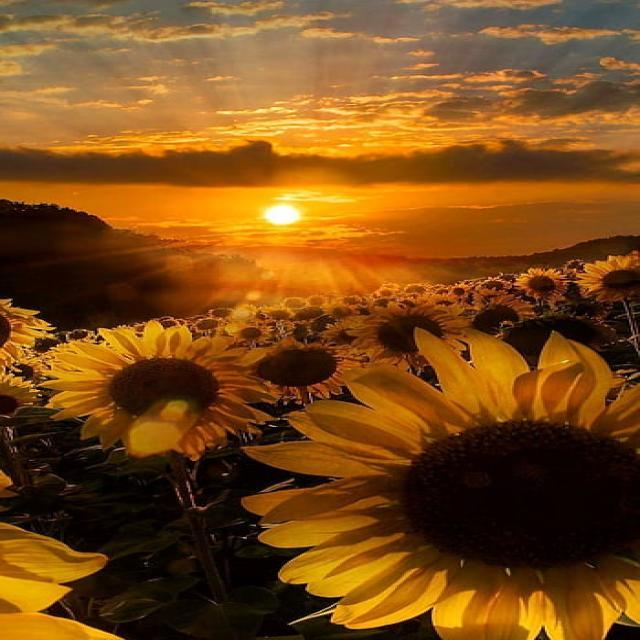sunflower: (240, 327, 638, 638), (38, 319, 276, 460), (0, 520, 124, 639), (346, 298, 472, 366), (242, 336, 361, 404), (500, 312, 614, 364), (0, 299, 56, 371), (574, 253, 638, 302), (470, 294, 534, 332), (514, 266, 567, 300), (0, 372, 40, 416), (2, 360, 44, 383), (322, 320, 362, 344), (231, 324, 274, 345), (0, 471, 18, 515), (28, 334, 64, 355), (322, 303, 360, 319), (260, 306, 294, 322), (476, 280, 508, 296), (294, 304, 326, 320), (286, 321, 314, 338), (426, 294, 458, 308), (448, 283, 472, 299), (195, 318, 222, 332), (65, 329, 94, 342), (208, 308, 235, 320), (403, 284, 428, 296), (282, 297, 307, 308), (396, 298, 421, 308), (159, 318, 179, 328), (352, 305, 372, 315)
